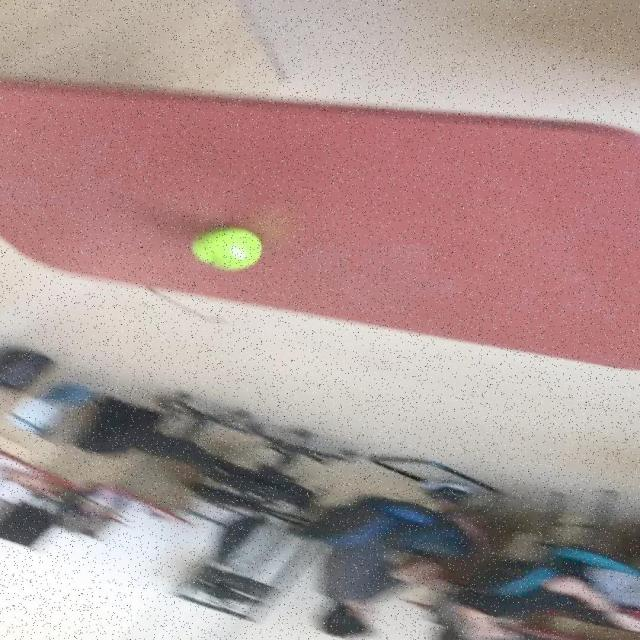Apple: (191, 226, 265, 272)
